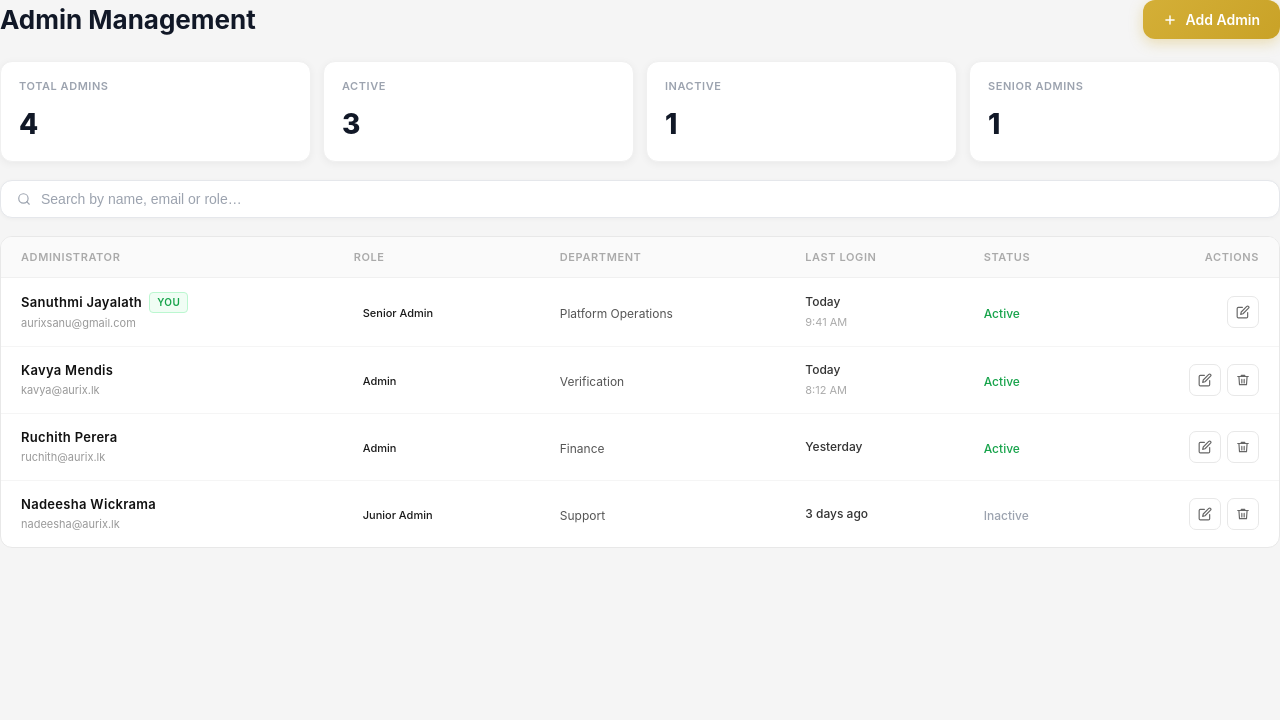
All screens › AdminManagement opens add administrator modal and validates fields
Click the button "Add Admin": (1212,20) left=1144, top=0, right=1279, bottom=39
(page scrolled)
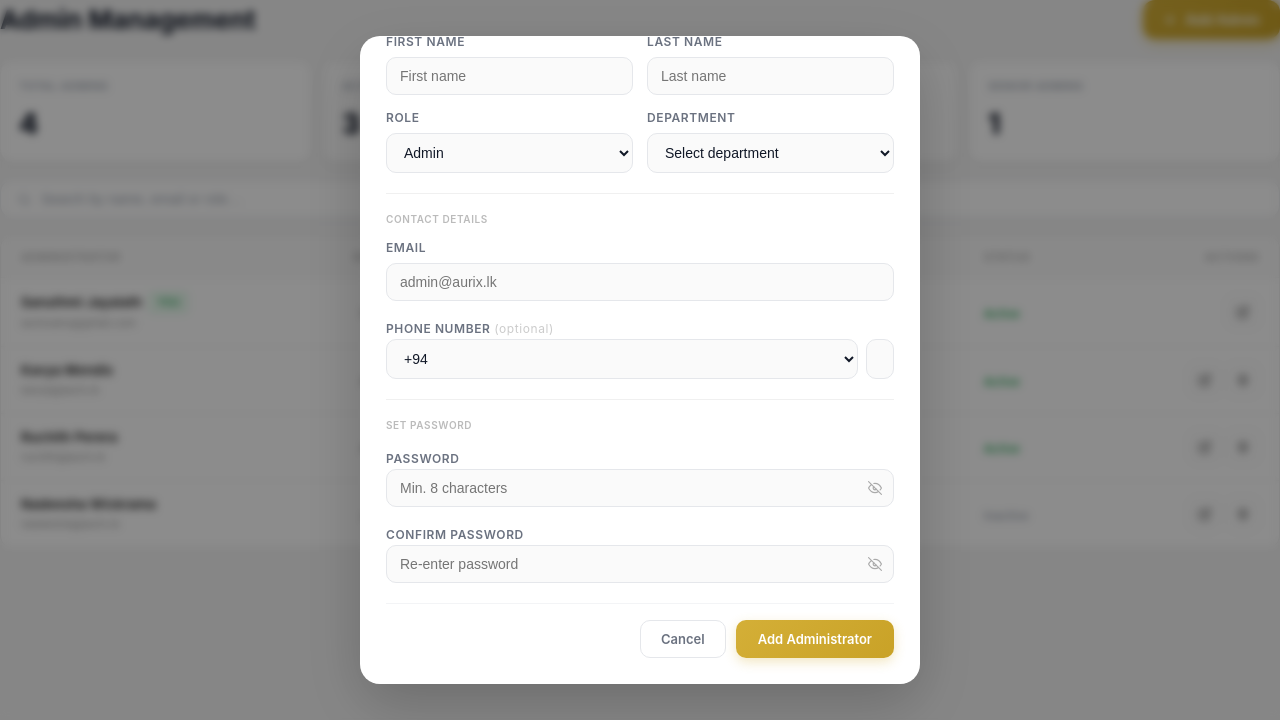
Click the button "Add Administrator": (815,639) left=736, top=620, right=894, bottom=658
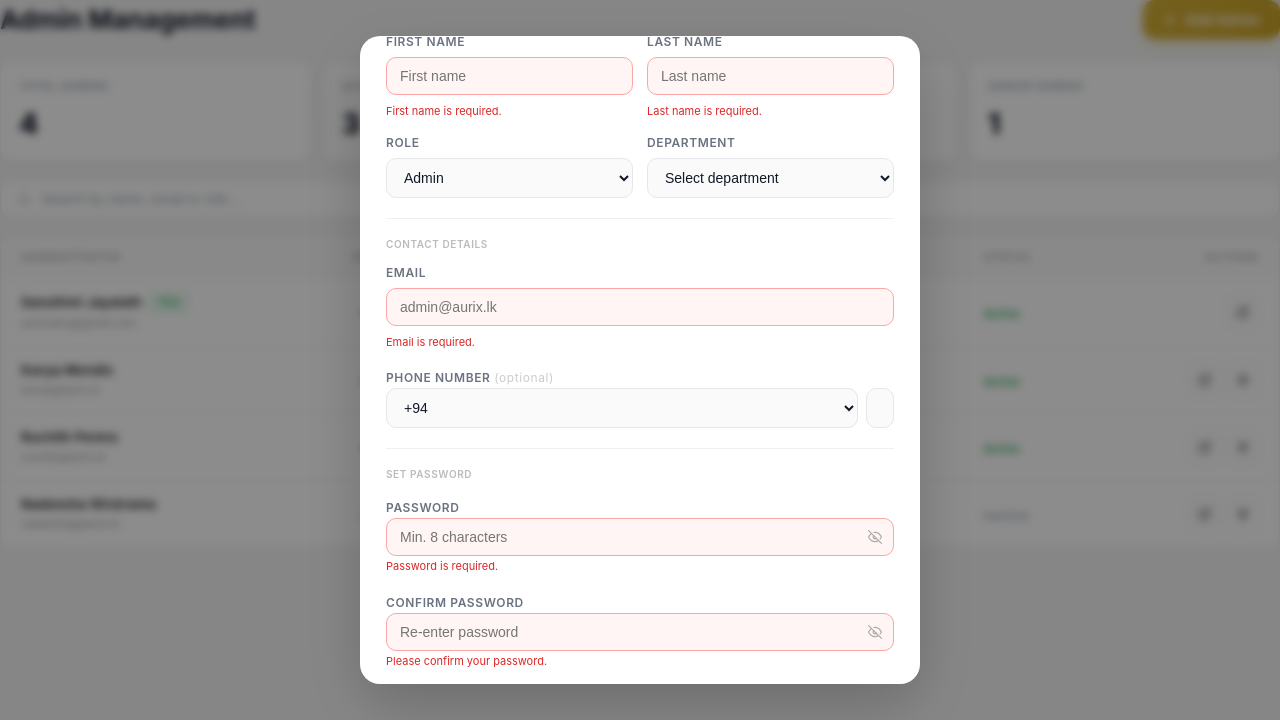
Result: the text "First name is required." is shown at left=386, top=104, right=502, bottom=118
Result: the text "Last name is required." is shown at left=647, top=104, right=762, bottom=118
